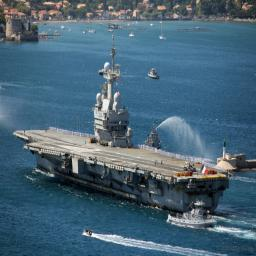Portanaves: (13, 34, 232, 228)
